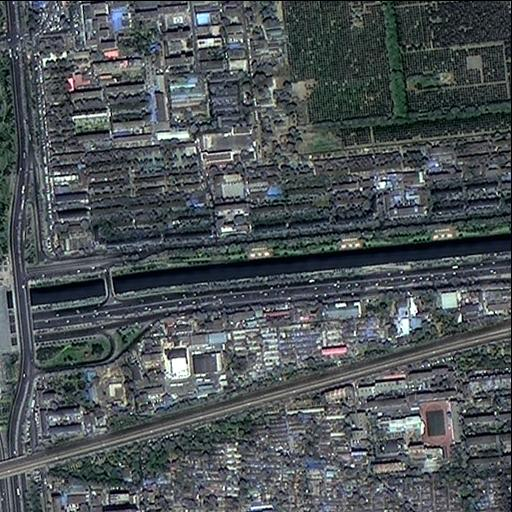school: (409, 399, 453, 467), (198, 130, 259, 164), (205, 167, 247, 205)
